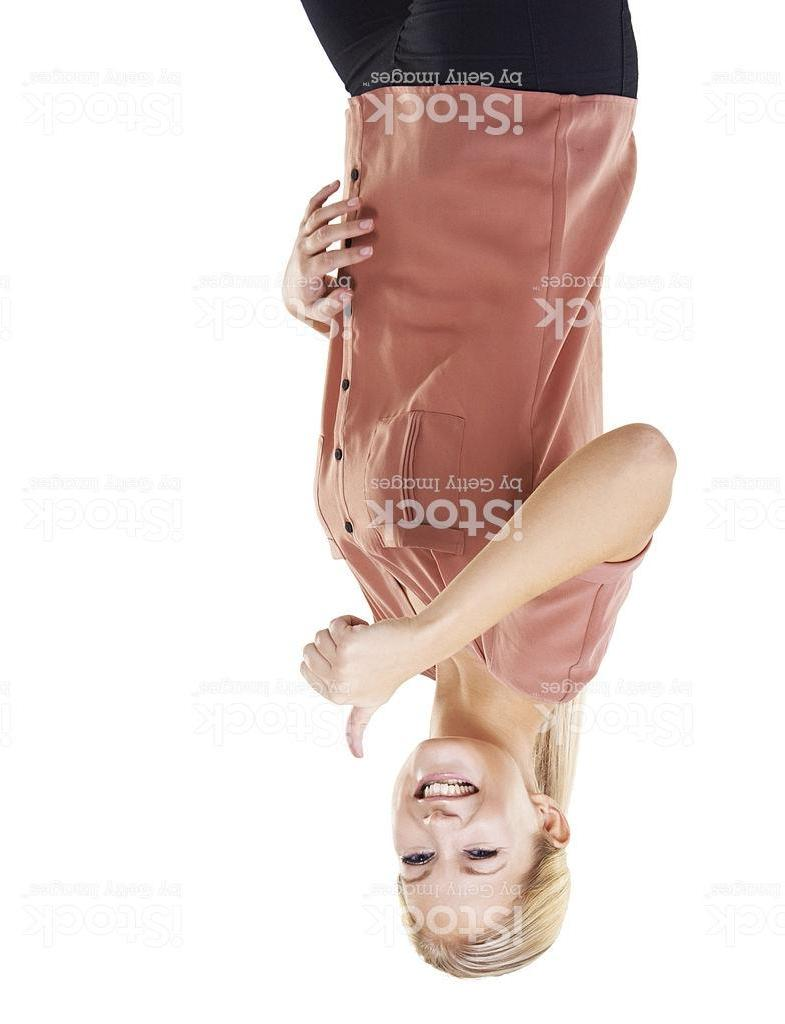thumbsdown: (298, 612, 388, 764)
